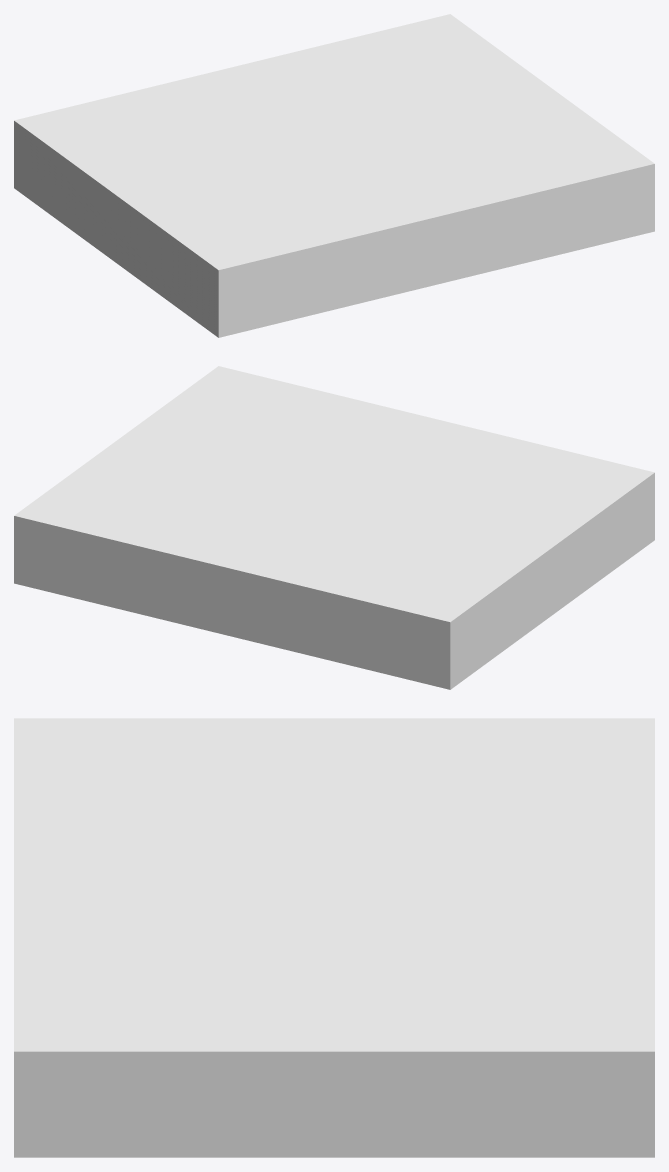
The model's file is Itr_Oven_Base_01.FBX.
3 renders of one model, top to bottom at view 1: azimuth 30°, elevation 25°; view 2: azimuth 150°, elevation 25°; view 3: azimuth 270°, elevation 25°, orthographic. The views are drawn at different scales.
Visible parts, largest first — view 1: Itr_Oven_Base_01; view 2: Itr_Oven_Base_01; view 3: Itr_Oven_Base_01.
Part boxes in pixels (<box>): Itr_Oven_Base_01: <box>14,14,654,337</box>; Itr_Oven_Base_01: <box>14,366,654,689</box>; Itr_Oven_Base_01: <box>14,718,654,1157</box>.
Bounding box in the file's own units: 45.15 × 6.69 × 36.67.
